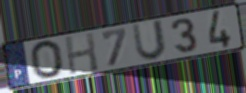3: (170, 17, 200, 54)
4: (207, 8, 233, 50)
7: (100, 26, 129, 68)
H: (63, 30, 101, 76)
O: (28, 39, 66, 81)
U: (130, 18, 168, 62)
